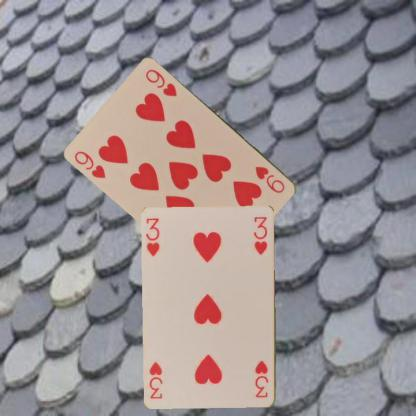3h: (252, 358, 270, 398), (144, 216, 161, 258)
9h: (72, 148, 108, 180), (252, 163, 286, 195)
